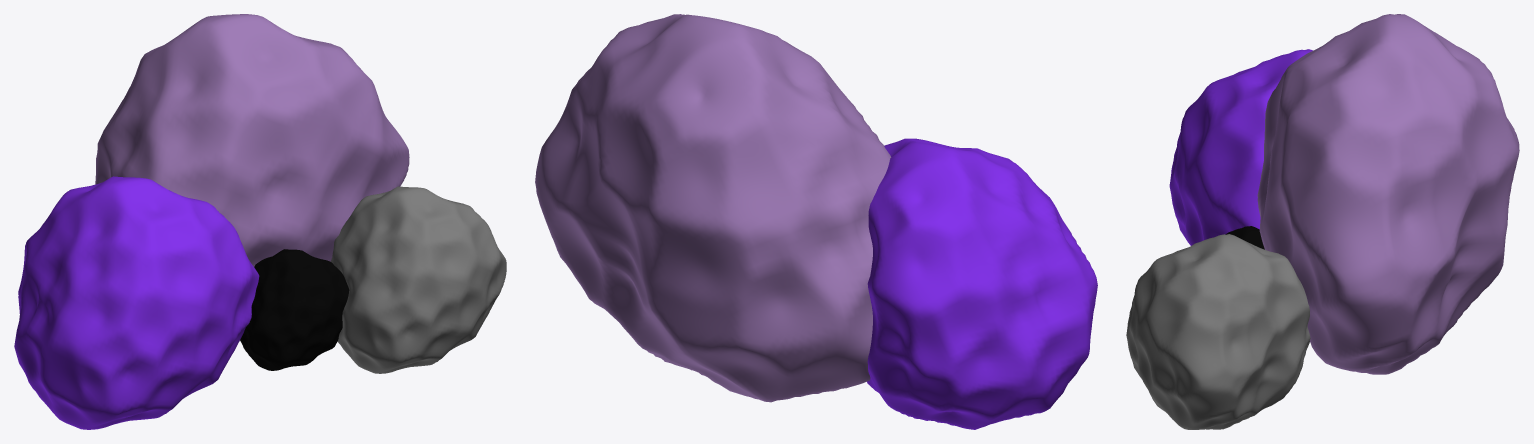
The model's file is obstacle_2.fbx.
The picture shows the model from 3 angles, left to right: view 1: azimuth 30°, elevation 25°; view 2: azimuth 150°, elevation 25°; view 3: azimuth 270°, elevation 25°; orthographic projection. The views are drawn at different scales.
Visible parts, largest first — view 1: Cube, Cube.003, Cube.001, Cube.002; view 2: Cube, Cube.003; view 3: Cube, Cube.001, Cube.003, Cube.002.
Boxes of the visible parts, x1,y1,x2,y2 form: Cube: (95, 14, 409, 266); Cube.003: (14, 176, 259, 429); Cube.001: (330, 186, 506, 373); Cube.002: (240, 249, 349, 370); Cube: (535, 14, 891, 402); Cube.003: (867, 138, 1097, 429); Cube: (1257, 14, 1519, 374); Cube.001: (1126, 234, 1310, 429); Cube.003: (1169, 49, 1312, 245); Cube.002: (1225, 226, 1264, 249).
Size of the model in its own units: 927 by 642 by 643.
